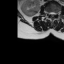CCS_normal: (51, 10, 53, 18)
LFS_normal: (55, 10, 57, 15)
LLS_normal: (53, 10, 55, 16)
RFS_normal: (47, 10, 50, 16)
RLS_normal: (50, 10, 52, 16)
